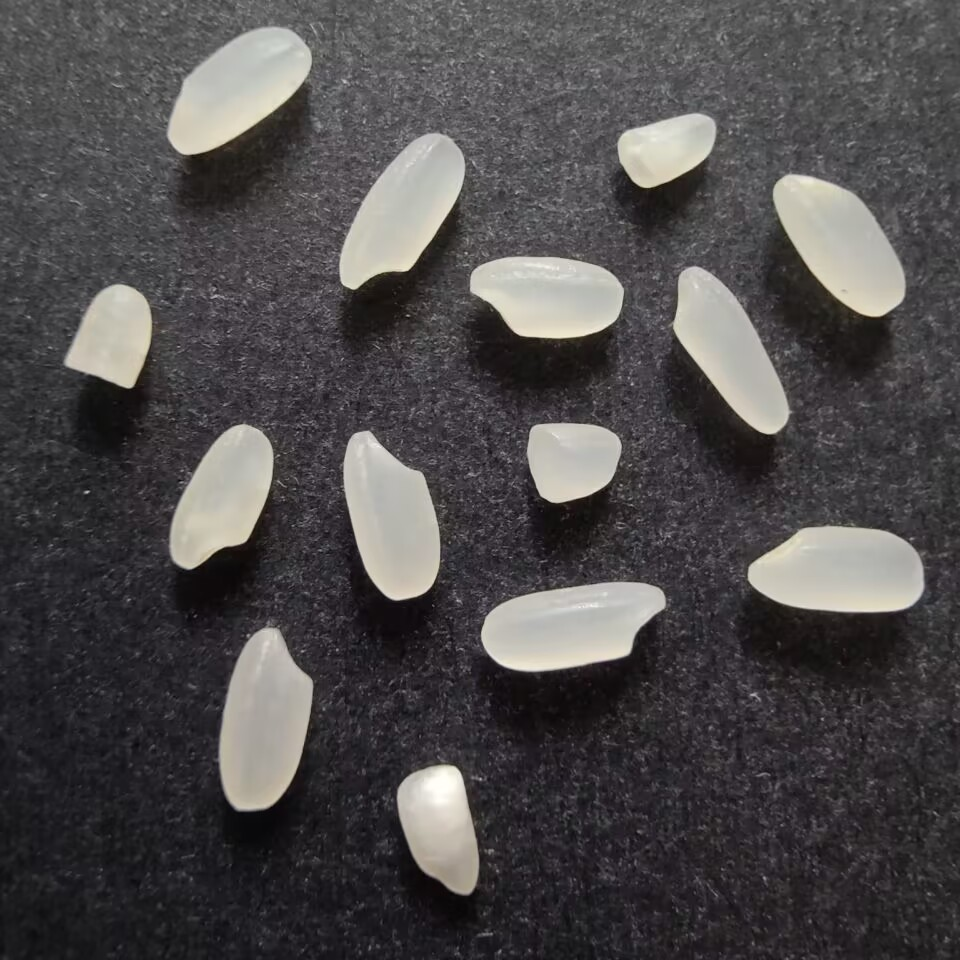broken: (390, 762, 485, 900), (59, 282, 155, 392), (523, 415, 624, 508), (613, 110, 720, 192)
rice: (666, 259, 791, 440), (335, 128, 468, 293), (769, 169, 911, 319), (160, 23, 316, 157), (212, 620, 316, 816), (339, 427, 443, 602), (164, 416, 278, 575), (478, 579, 667, 673), (741, 524, 926, 619), (465, 255, 629, 338)
